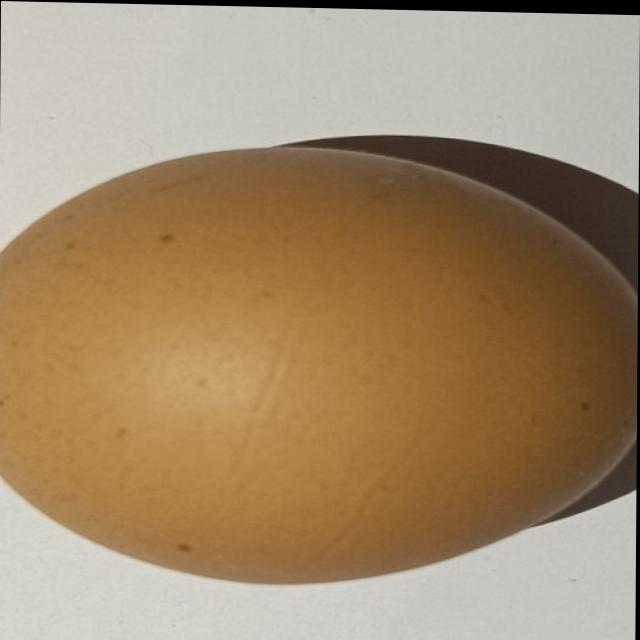unfresh: (0, 134, 639, 593)
